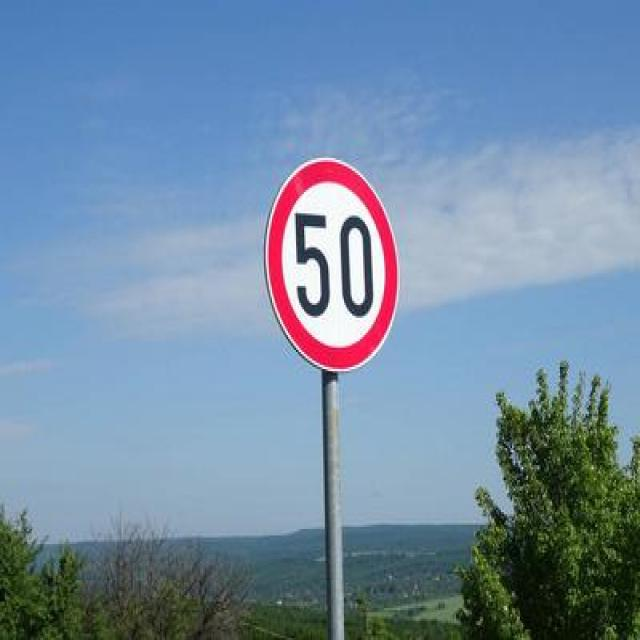speed limit 50: (263, 158, 399, 373)
